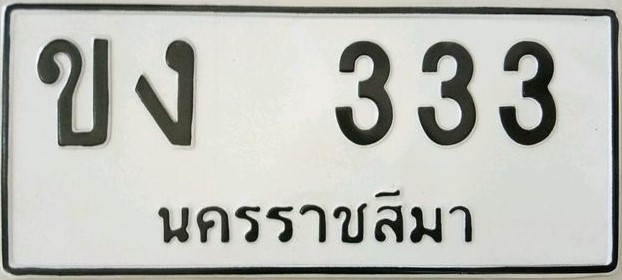txt02: (34, 33, 117, 149)
txt05: (131, 37, 198, 150)
